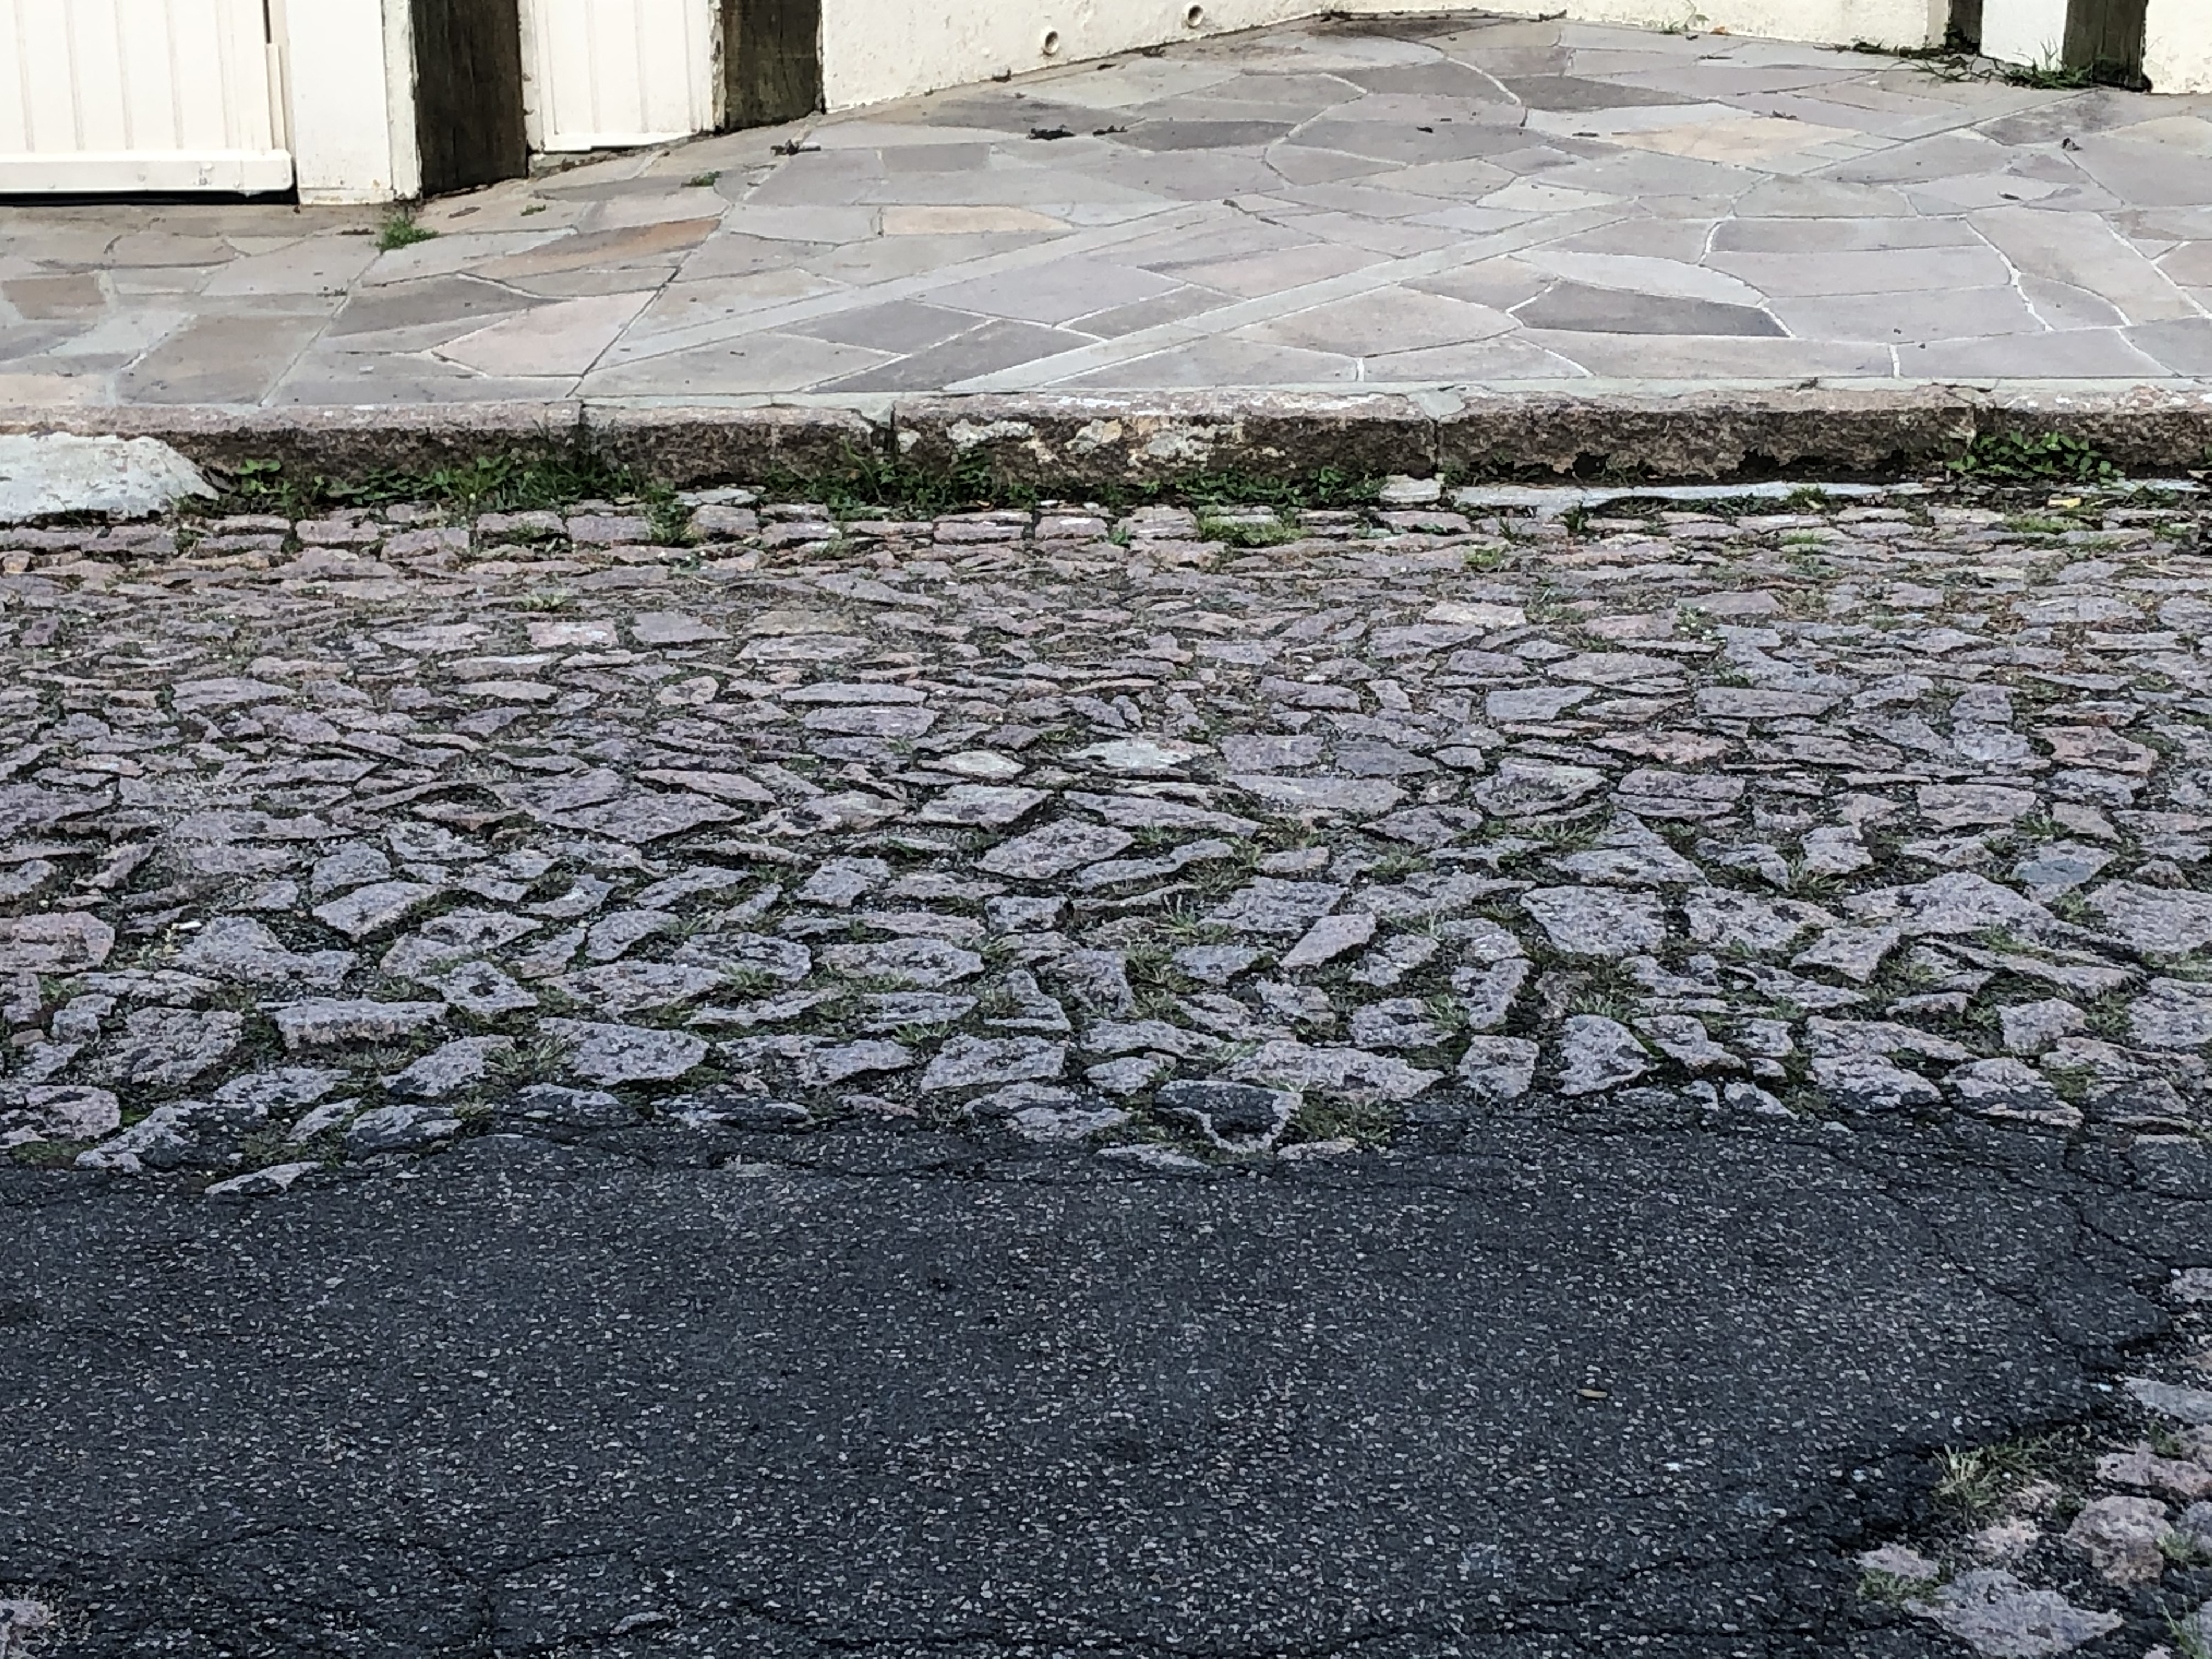vag40: (3, 115, 2212, 690)
